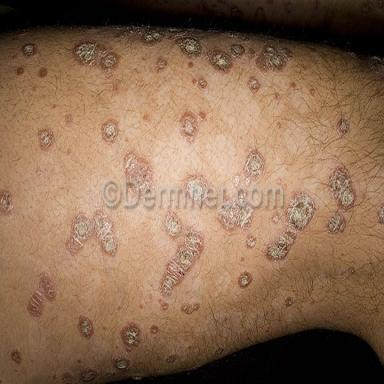Psoriasis: (265, 191, 316, 260), (160, 227, 205, 296), (66, 209, 118, 256), (72, 41, 119, 76), (247, 44, 293, 74), (27, 273, 56, 317), (329, 165, 355, 210), (124, 152, 154, 189), (207, 44, 245, 72), (217, 201, 253, 229), (243, 147, 265, 186), (179, 111, 205, 142), (120, 322, 141, 352), (177, 37, 205, 59), (164, 210, 181, 239), (326, 211, 347, 234), (141, 27, 165, 46), (37, 129, 55, 152), (101, 120, 119, 143), (78, 316, 94, 339), (0, 191, 13, 215), (79, 367, 97, 384), (335, 117, 350, 137), (181, 301, 199, 315), (113, 357, 130, 371), (239, 271, 252, 287), (247, 77, 260, 93), (11, 348, 22, 365), (193, 78, 207, 91), (23, 43, 37, 56), (61, 371, 75, 384), (246, 234, 256, 249), (157, 60, 167, 70), (233, 175, 241, 187), (150, 325, 159, 334)
